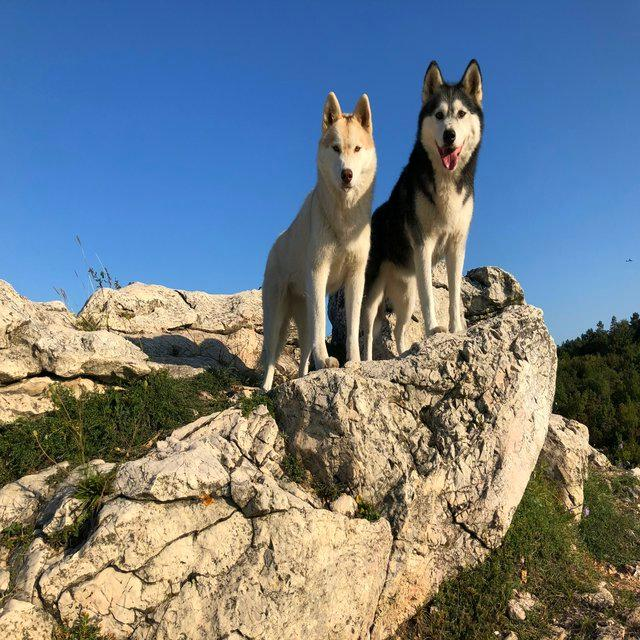husky: (340, 53, 494, 360), (260, 90, 379, 392)
